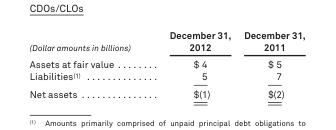table: (28, 28, 304, 99)
table column: (28, 28, 149, 99), (149, 28, 236, 99), (236, 28, 304, 99)
table column header: (28, 28, 304, 55)
table row: (28, 28, 304, 55), (28, 55, 304, 70), (28, 70, 304, 85), (28, 85, 304, 99)
